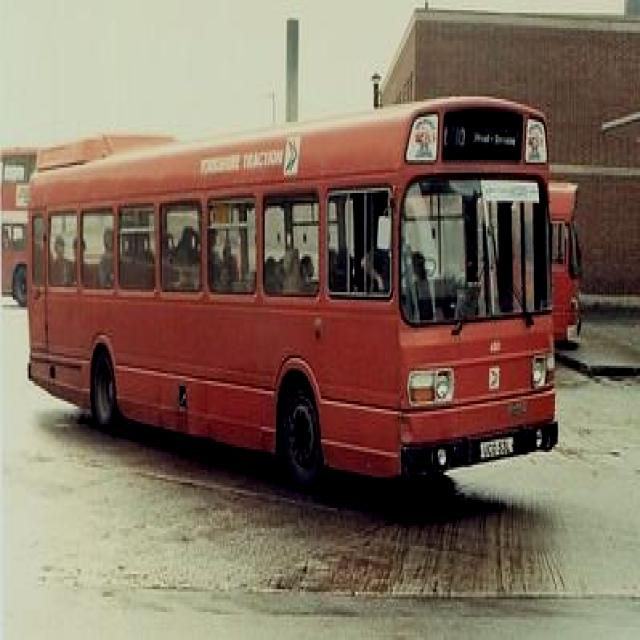Bus: (19, 95, 582, 522)
